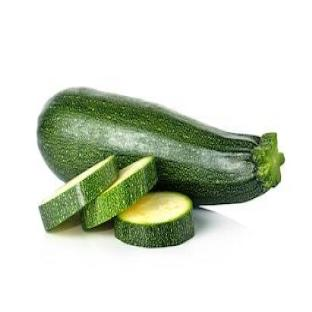Zucchini: (38, 89, 283, 203), (40, 156, 118, 230), (83, 156, 157, 229), (115, 192, 194, 247)
